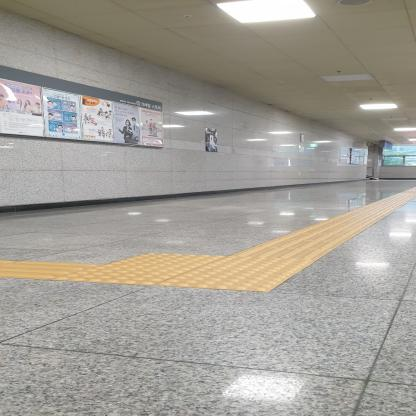go: (0, 261, 104, 280), (228, 246, 333, 260)
stop: (152, 268, 297, 293), (48, 264, 196, 286), (197, 255, 317, 273), (106, 253, 228, 268)
